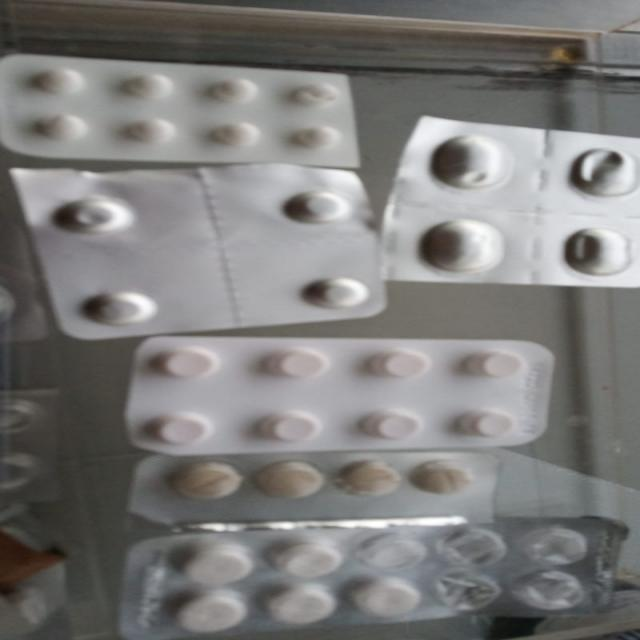Empty: (570, 143, 638, 200), (442, 526, 516, 572), (350, 530, 428, 571), (520, 526, 594, 567), (434, 573, 502, 616), (512, 573, 588, 611)
Pill: (424, 212, 516, 277), (546, 216, 634, 280), (430, 126, 508, 196), (52, 186, 140, 241), (354, 573, 440, 624), (74, 280, 156, 330), (250, 405, 338, 451), (174, 453, 244, 506), (324, 459, 410, 502), (174, 539, 250, 587), (276, 185, 358, 229), (138, 403, 218, 448), (266, 537, 346, 582), (260, 589, 342, 631), (292, 275, 382, 312), (352, 404, 434, 444), (248, 463, 328, 504), (410, 458, 482, 503), (256, 346, 336, 386), (360, 345, 436, 387), (178, 594, 252, 637), (152, 338, 220, 384), (458, 348, 532, 390), (12, 65, 94, 100), (444, 401, 514, 442), (116, 114, 186, 150), (200, 118, 272, 152), (278, 77, 344, 114), (112, 71, 182, 105), (202, 76, 264, 111), (280, 120, 344, 153), (34, 111, 92, 146)
